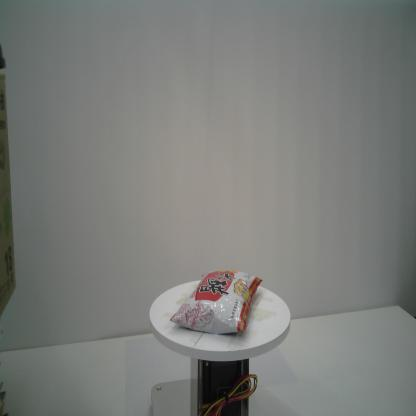Seasoner: (170, 270, 264, 334)
